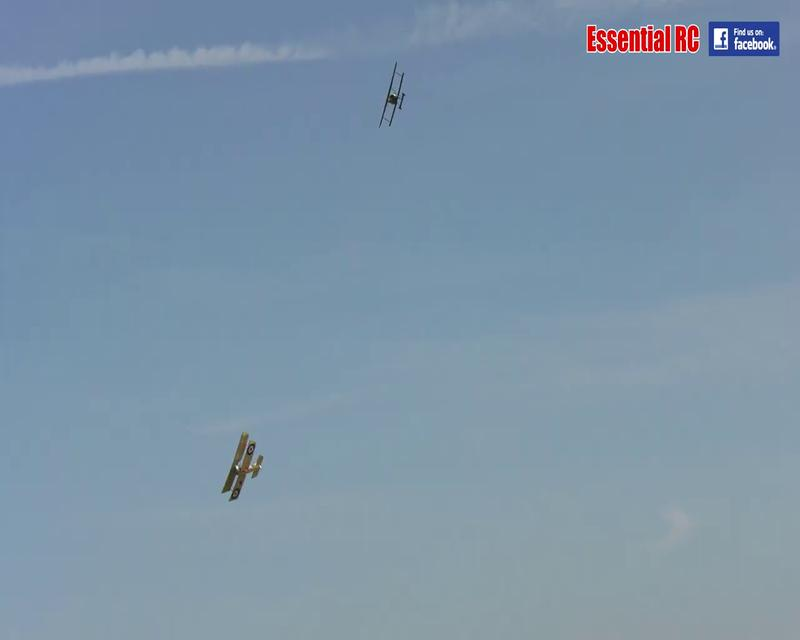UAV: (220, 430, 263, 501), (370, 62, 405, 129)
